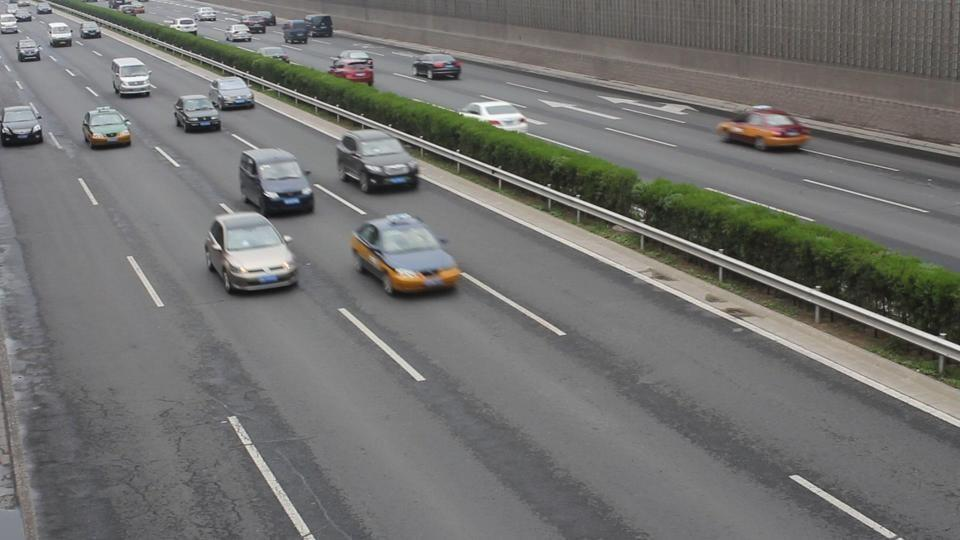car: (350, 213, 461, 296), (204, 210, 300, 295), (335, 128, 420, 194), (238, 146, 314, 216), (714, 107, 813, 152), (460, 99, 530, 133), (81, 106, 132, 149), (172, 95, 223, 133), (0, 105, 44, 147), (110, 58, 153, 98), (207, 77, 255, 110), (412, 52, 463, 81)
